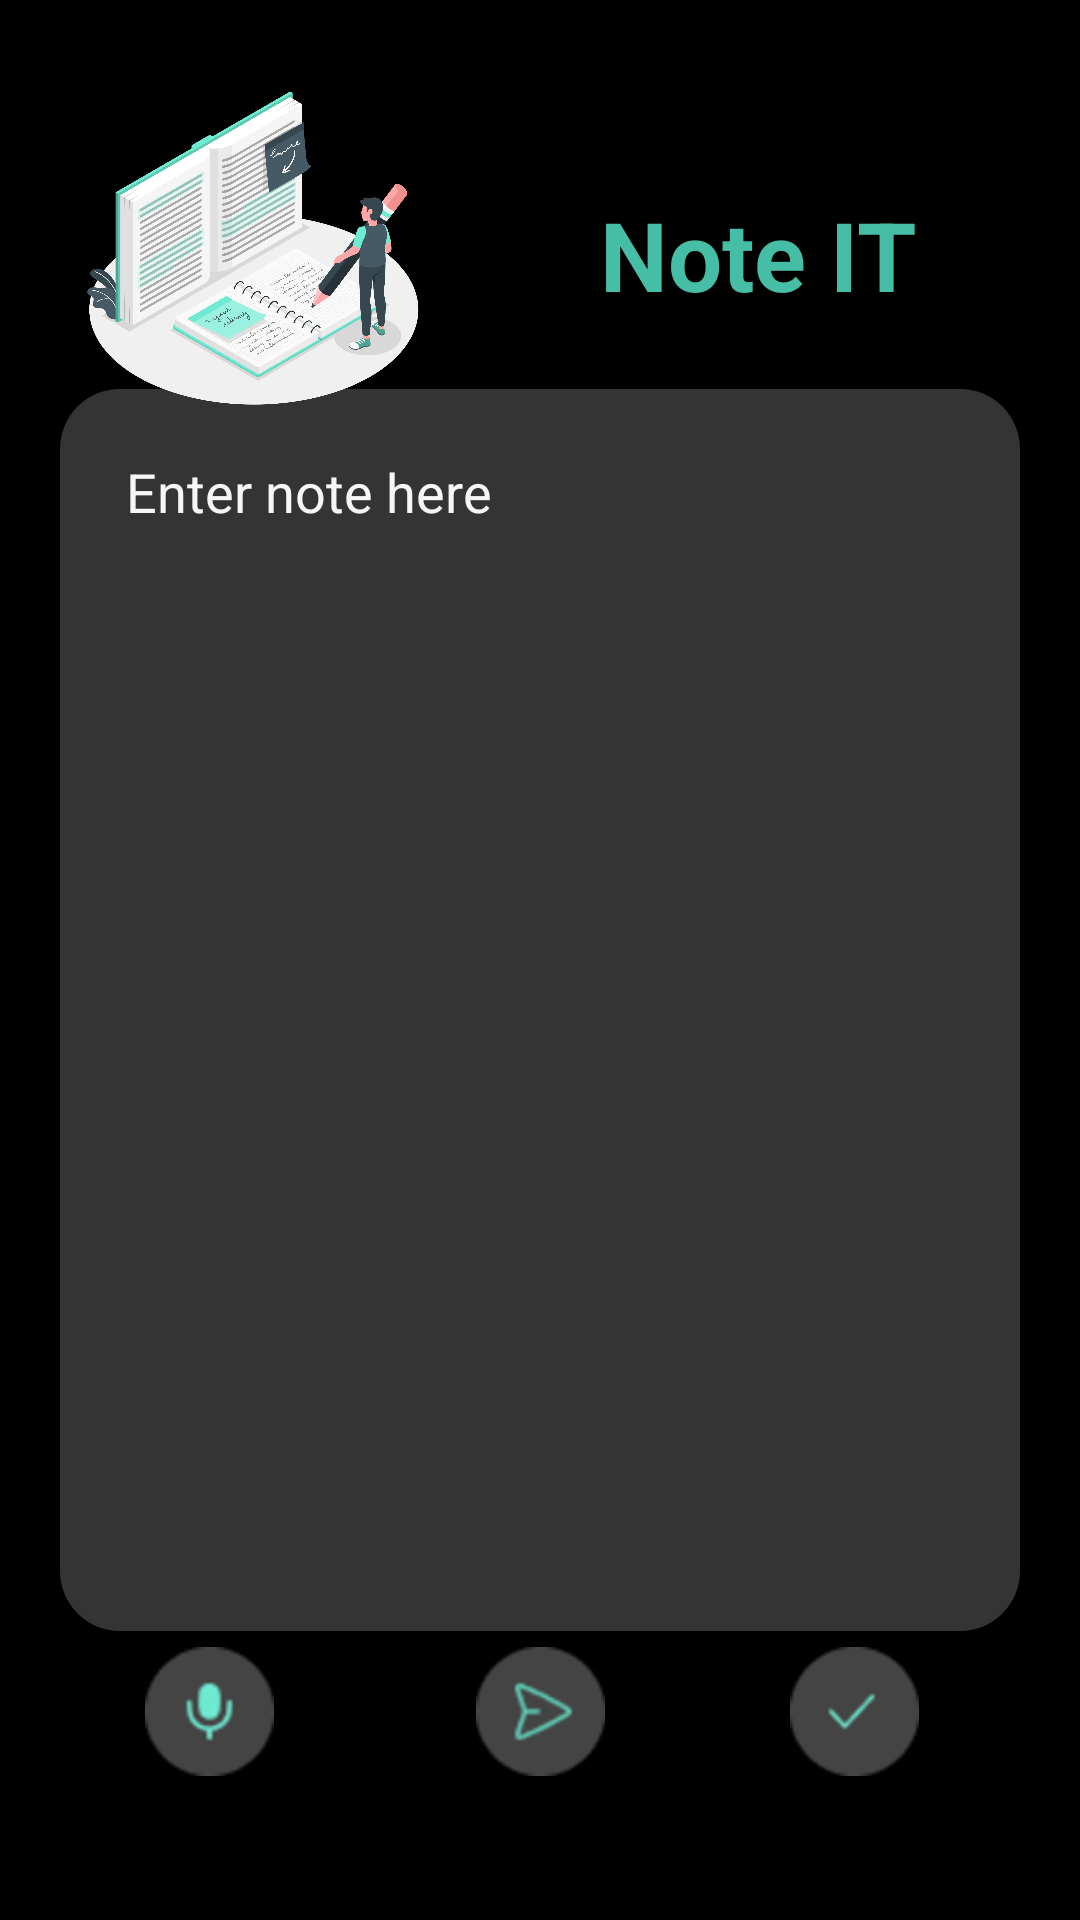

Where icons sit on this 1080 x 1920 app screen, as [x1, y1, x2, y2]:
mike: [145, 1647, 274, 1776]
share: [476, 1647, 605, 1776]
